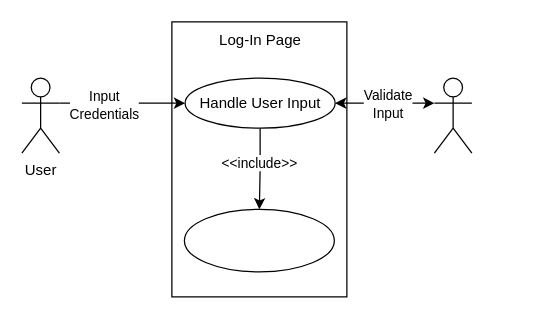
This 536x319 diagram has some shape labels left out. Here are the shapes that lost their labels. From the top down, the centre of each, then its label:
the point at 452,115: <<Authenticator>>
the point at 258,240: Redirect to dashboard
